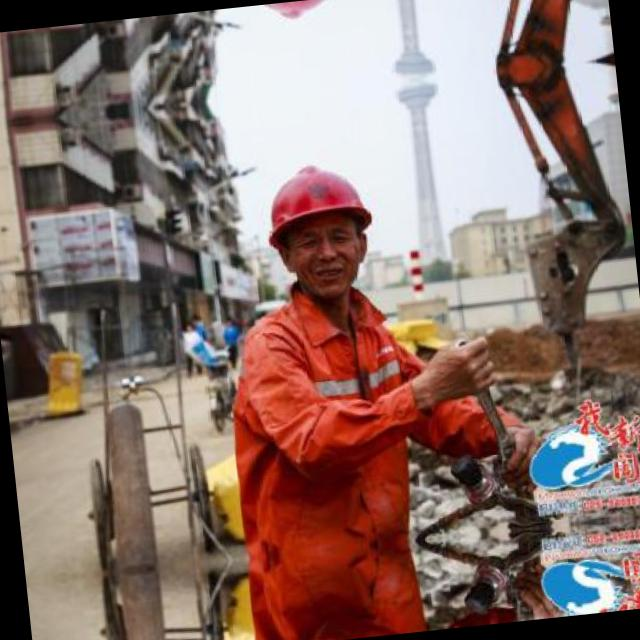helmet: (246, 148, 393, 306)
